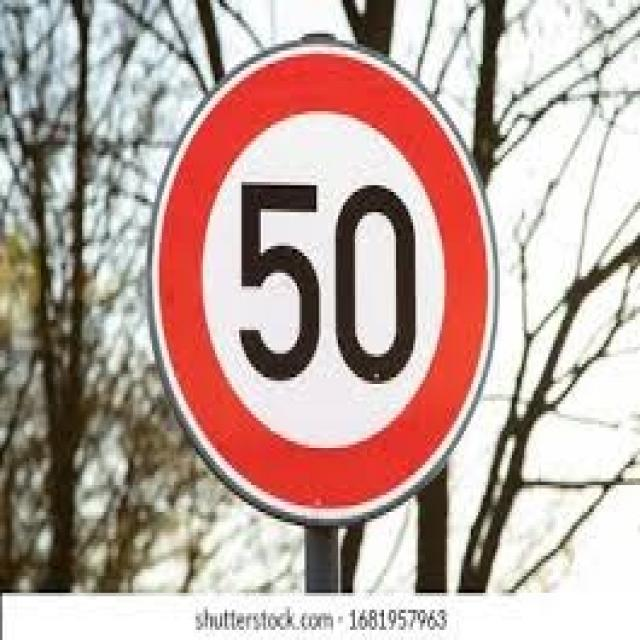speed_limit_50: (137, 31, 505, 532)
